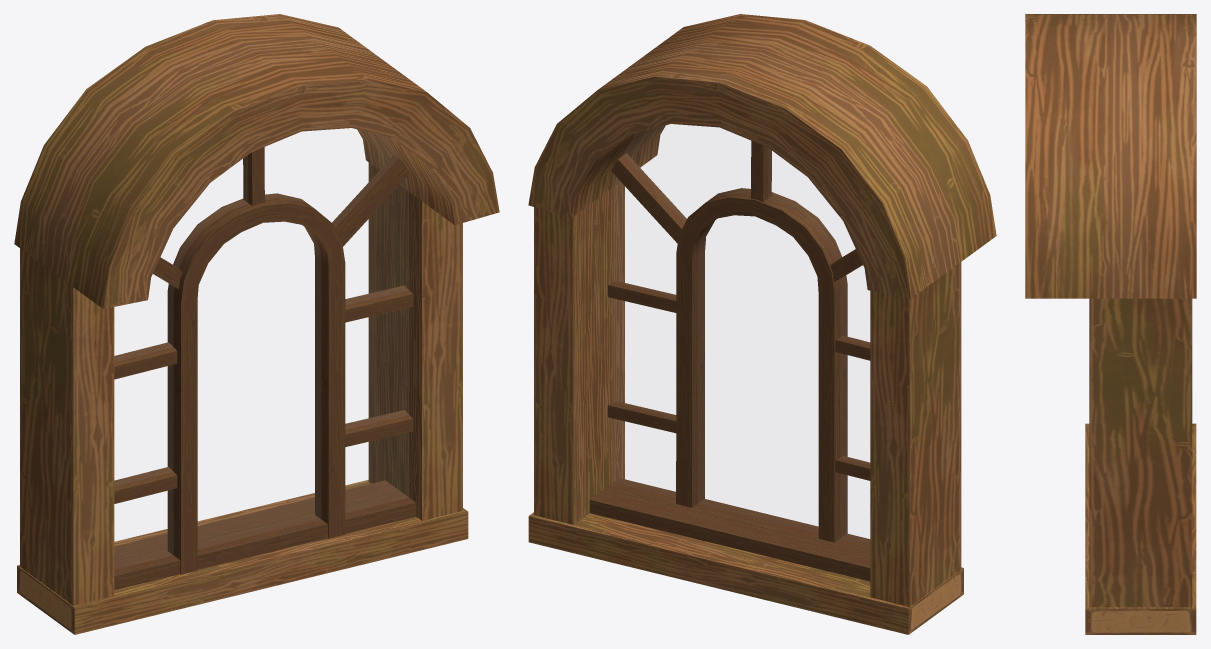
The model's file is Window_Wide_Round1.gltf.
The picture shows the model from 3 angles, left to right: view 1: azimuth 30°, elevation 25°; view 2: azimuth 150°, elevation 25°; view 3: azimuth 270°, elevation 25°; orthographic projection. The views are drawn at different scales.
Parts seen in each view (by area): view 1: Window_Wide_Round1; view 2: Window_Wide_Round1; view 3: Window_Wide_Round1.
Boxes of the visible parts, x1,y1,x2,y2 form: Window_Wide_Round1: (14,14,499,634); Window_Wide_Round1: (528,14,996,634); Window_Wide_Round1: (1025,14,1196,634).
Bounding box in the file's own units: 1.36 × 1.73 × 0.5296.
2 materials, 1 textured.
